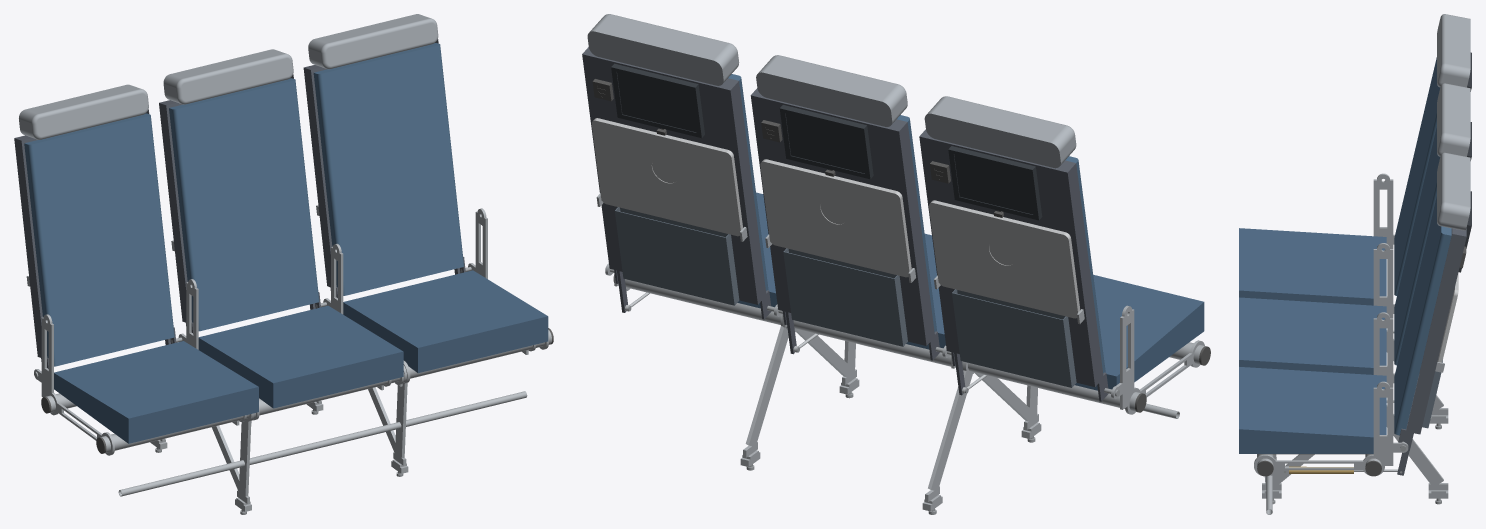
The model's file is step_05.glb.
3 renders of one model, left to right at view 1: azimuth 30°, elevation 25°; view 2: azimuth 150°, elevation 25°; view 3: azimuth 270°, elevation 25°, orthographic. The views are drawn at different scales.
Parts seen in each view (by area): view 1: part__seat 2 back cushion cover, part__seat 3 back cushion cover, part__seat 1 back cushion cover, part__seat 1 cushion cover, part__seat 3 cushion cover, part__seat 2 cushion cover, part__seat 3 head rest, part__seat 1 head rest, part__seat 2 head rest, part__baggage bar, part__seat 2 back shell, part__seat 1 back shell (+8 smaller); view 2: part__seat 1 tray table, part__seat 2 tray table, part__seat 3 tray table, part__seat 1 back shell, part__seat 2 back shell, part__seat 3 back shell, part__seat 2 literature pocket, part__seat 1 literature pocket, part__seat 3 literature pocket, part__seat 1 cushion cover, part__seat 1 head rest, part__seat 3 head rest (+13 smaller); view 3: part__seat 3 cushion cover, part__seat 2 cushion cover, part__seat 1 cushion cover, part__seat 3 back cushion cover, part__seat 3 back shell, part__seat 1 back cushion cover, part__seat 2 back cushion cover, part__spreader 4, part__seat 3 head rest, part__seat 1 head rest, part__seat 2 head rest, part__leg 2 (+7 smaller).
Boxes of the visible parts, <box> form: part__seat 2 back cushion cover: <box>169,78,319,331</box>; part__seat 3 back cushion cover: <box>313,43,463,295</box>; part__seat 1 back cushion cover: <box>24,113,174,366</box>; part__seat 1 cushion cover: <box>54,341,258,443</box>; part__seat 3 cushion cover: <box>343,270,548,373</box>; part__seat 2 cushion cover: <box>198,305,403,408</box>; part__seat 3 head rest: <box>308,14,438,69</box>; part__seat 1 head rest: <box>19,84,148,139</box>; part__seat 2 head rest: <box>163,49,293,104</box>; part__baggage bar: <box>118,391,527,496</box>; part__seat 2 back shell: <box>159,74,320,333</box>; part__seat 1 back shell: <box>14,109,176,368</box>; part__seat 1 tray table: <box>929,200,1080,318</box>; part__seat 2 tray table: <box>760,159,911,277</box>; part__seat 3 tray table: <box>591,118,742,236</box>; part__seat 1 back shell: <box>919,129,1108,401</box>; part__seat 2 back shell: <box>750,88,939,360</box>; part__seat 3 back shell: <box>582,47,771,319</box>; part__seat 2 literature pocket: <box>783,248,907,346</box>; part__seat 1 literature pocket: <box>952,289,1076,387</box>; part__seat 3 literature pocket: <box>614,207,739,305</box>; part__seat 1 cushion cover: <box>1075,275,1204,390</box>; part__seat 1 head rest: <box>924,96,1076,168</box>; part__seat 3 head rest: <box>587,14,739,85</box>; part__seat 3 cushion cover: <box>1239,367,1386,453</box>; part__seat 2 cushion cover: <box>1239,297,1386,374</box>; part__seat 1 cushion cover: <box>1239,228,1386,305</box>; part__seat 3 back cushion cover: <box>1394,196,1451,435</box>; part__seat 3 back shell: <box>1397,228,1466,475</box>; part__seat 1 back cushion cover: <box>1394,57,1440,295</box>; part__seat 2 back cushion cover: <box>1394,126,1440,365</box>; part__spreader 4: <box>1254,381,1408,475</box>; part__seat 3 head rest: <box>1437,152,1470,230</box>; part__seat 1 head rest: <box>1437,14,1470,87</box>; part__seat 2 head rest: <box>1437,83,1470,156</box>; part__leg 2: <box>1262,405,1448,490</box>.
Bounding box in the file's own units: 1552 × 1201 × 709.
